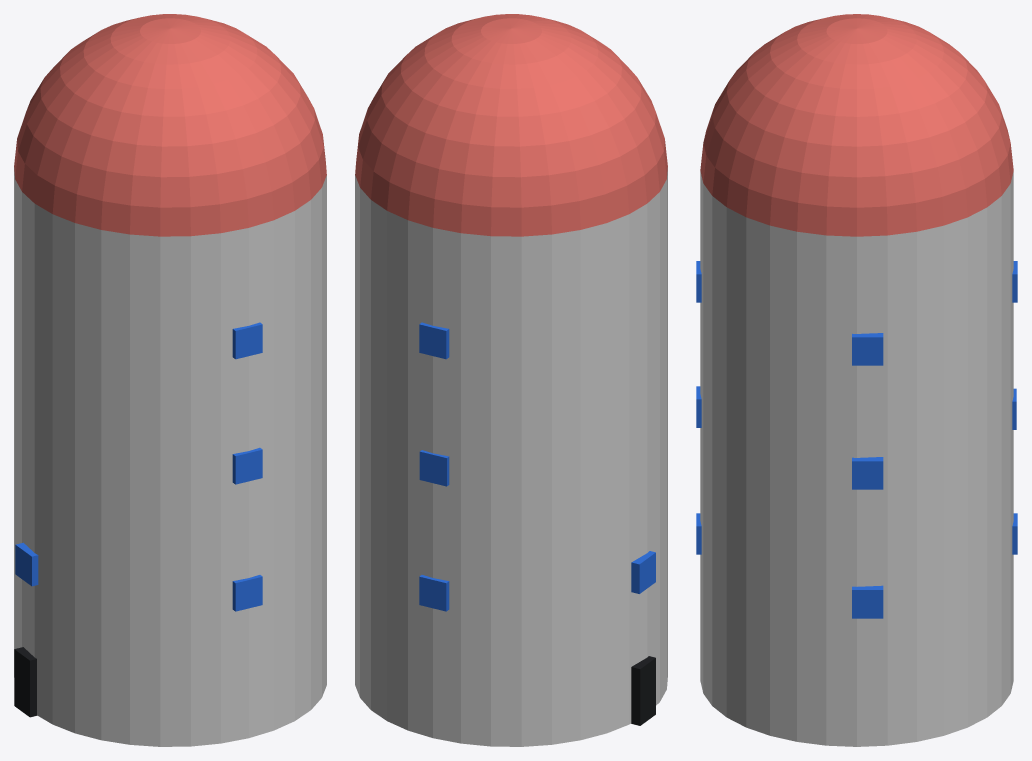
The model's file is Windmill.fbx.
The picture shows the model from 3 angles, left to right: view 1: azimuth 30°, elevation 25°; view 2: azimuth 150°, elevation 25°; view 3: azimuth 270°, elevation 25°; orthographic projection.
Visible parts, largest first — view 1: Windmill; view 2: Windmill; view 3: Windmill.
Boxes of the visible parts, x1,y1,x2,y2 form: Windmill: (14, 14, 326, 746); Windmill: (355, 14, 667, 746); Windmill: (696, 14, 1017, 746).
Bounding box in the file's own units: 2.1 × 4.6 × 2.05.
